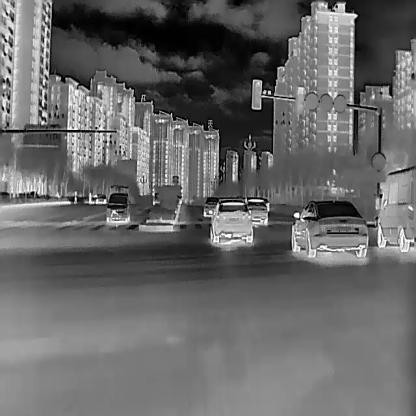car: (289, 198, 369, 258), (371, 164, 415, 251), (207, 196, 254, 244), (105, 192, 129, 223), (244, 197, 268, 224), (202, 197, 220, 217), (90, 192, 106, 204)
